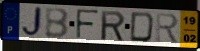B: (44, 7, 70, 40)
D: (129, 11, 156, 44)
F: (75, 8, 100, 41)
J: (20, 5, 44, 39)
R: (100, 10, 127, 43), (155, 12, 181, 46)
